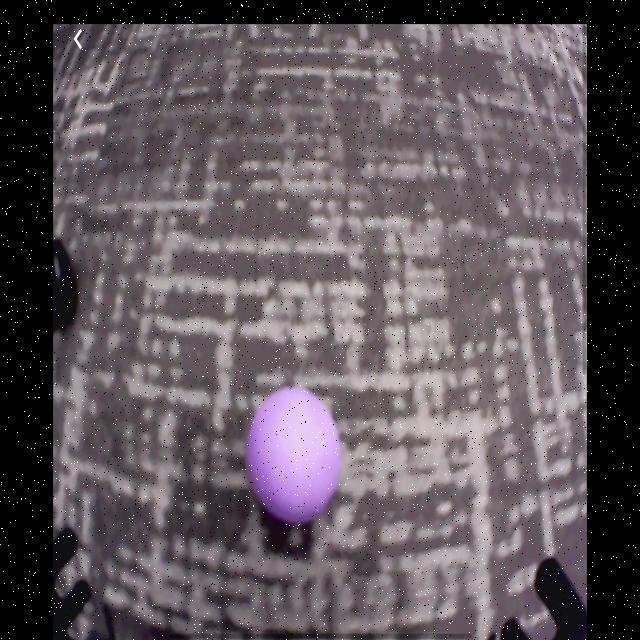ball: (245, 385, 343, 527)
